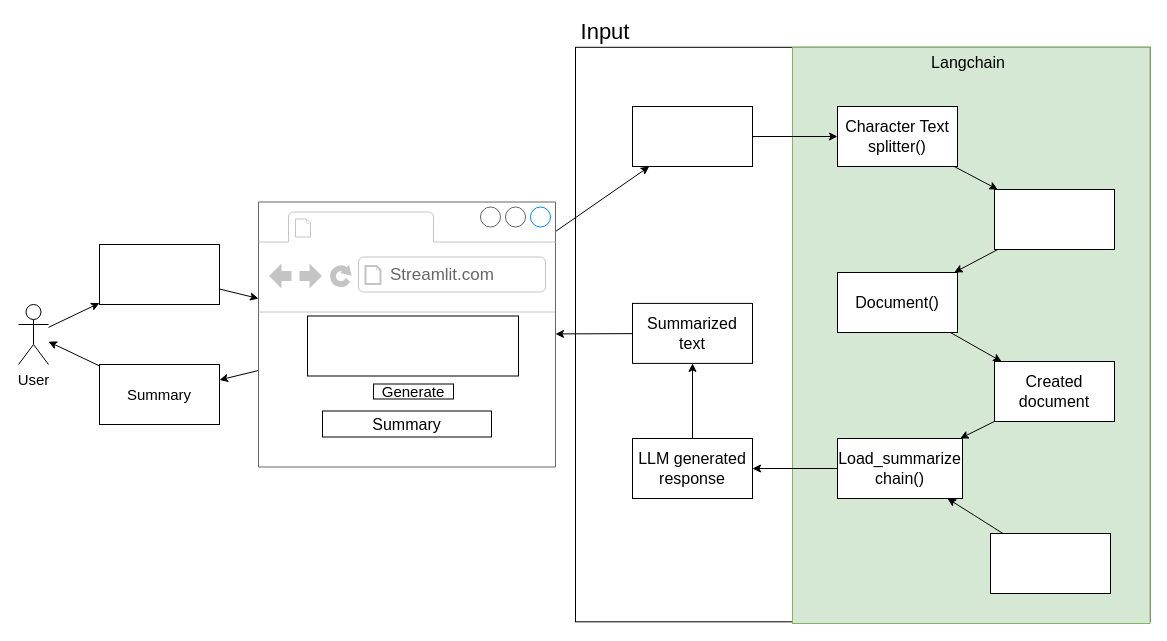
The diagram is 1167 pixels wide and 641 high, and some of its shapes have lost their labels. The centre of each missing label's shape, as x and y in pixels:
"Input text" belongs at [692,136].
"Large document" belongs at [159,274].
"Large Language Models" belongs at [1050,563].
"Large text" belongs at [412,345].
"Page 1" belongs at [373,226].
"Split Text" belongs at [1054,219].
